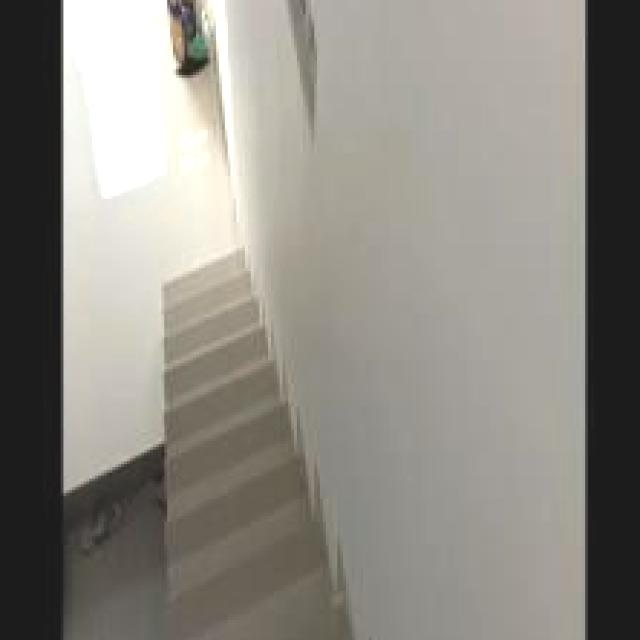downstair: (148, 315, 327, 612)
